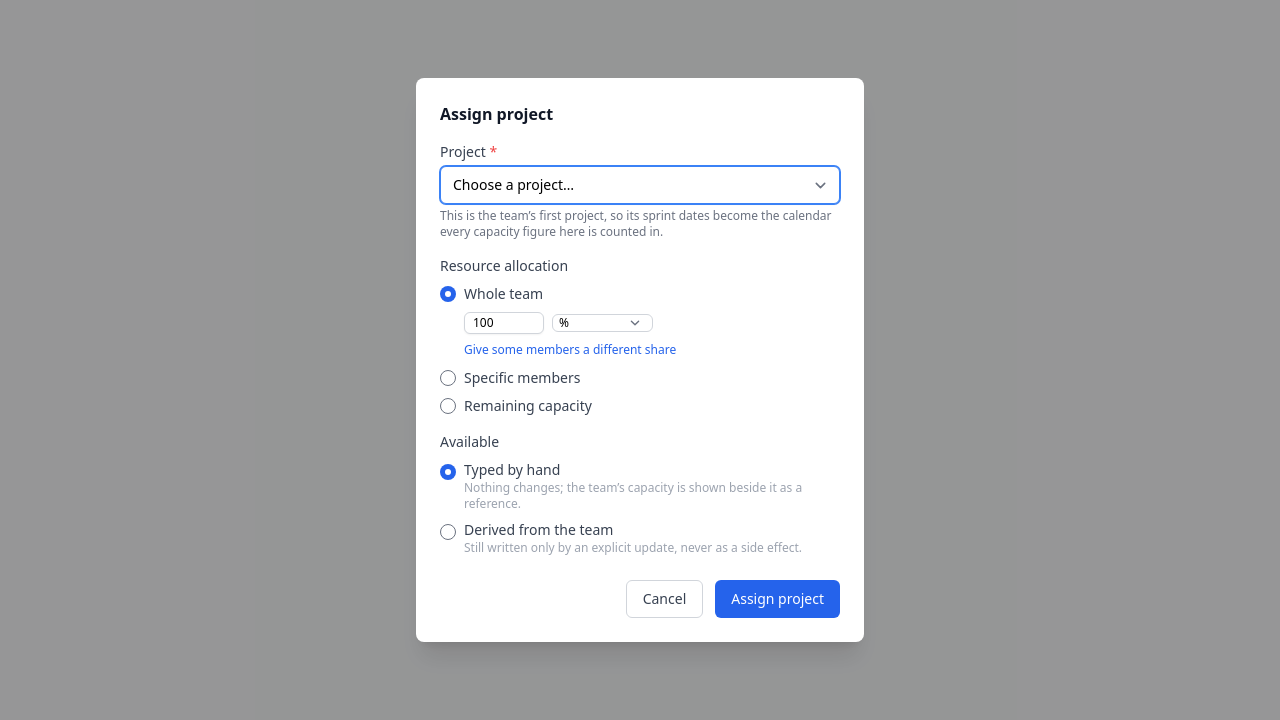
Scenario: AssignProjectModal › asks for the share of a ticked member left empty
Step 1. Select "ISK Portal" in the dropdown labelled "Project *" → (640, 185), box [440,166,840,204]
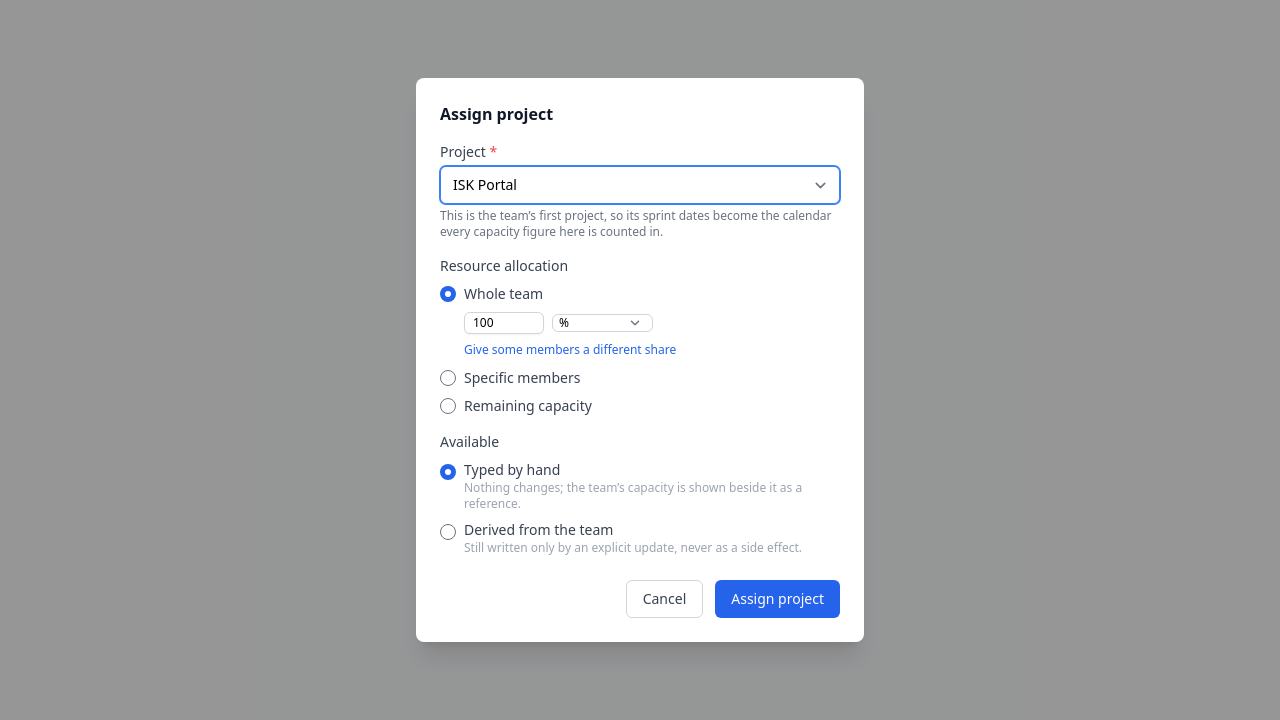
Step 2. Click the radio button labelled "Specific members" → (448, 378), box [440,370,456,386]
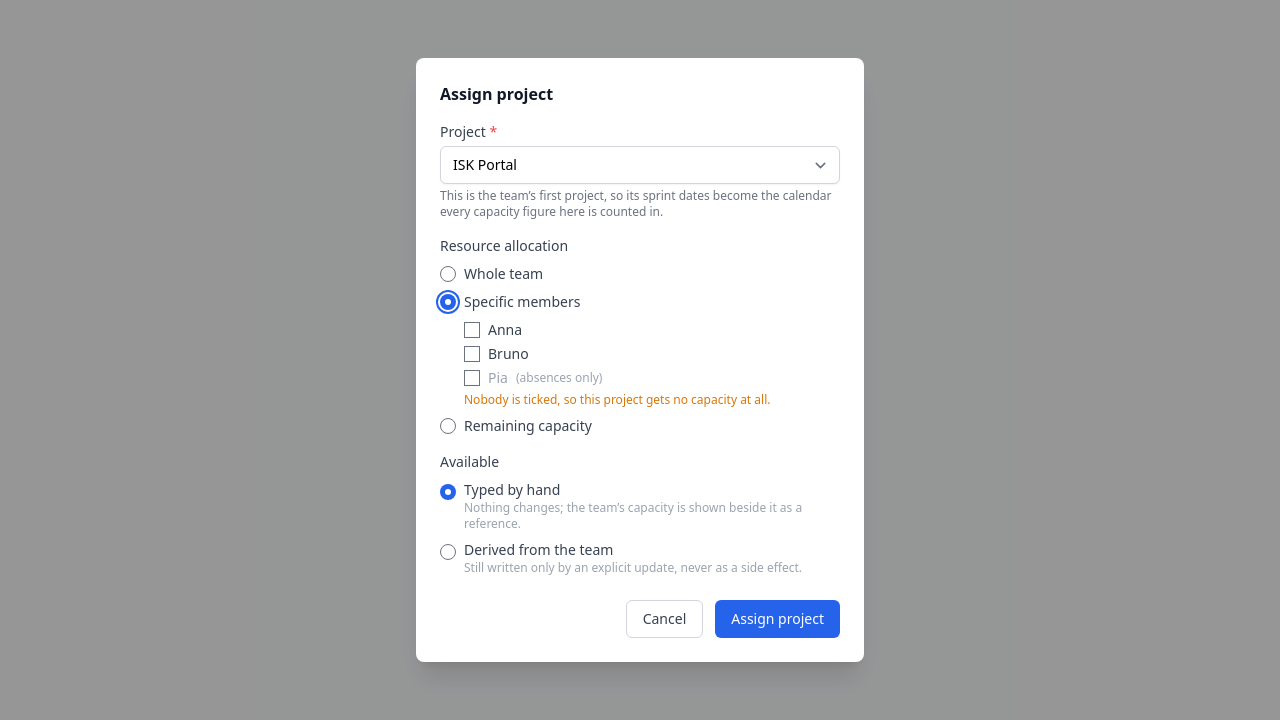
Step 3. Click the checkbox labelled "Anna" → (472, 330), box [464,322,480,338]
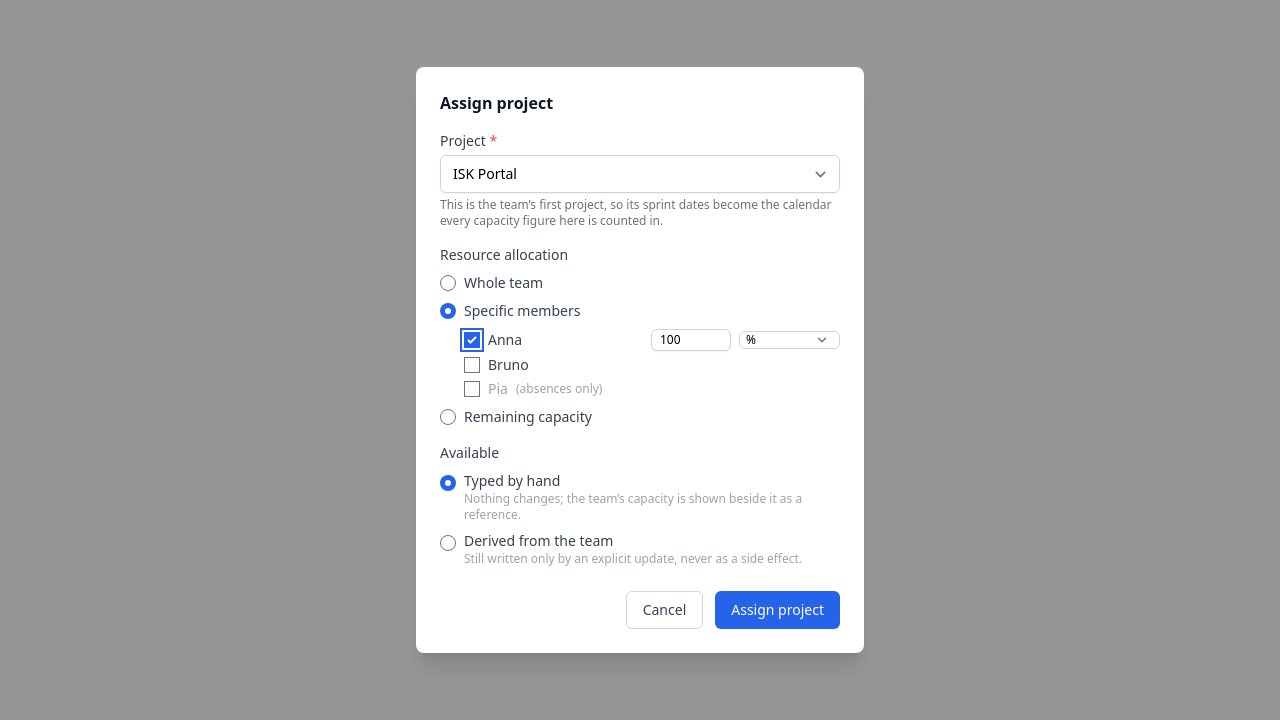
Step 4. Clear the number field named "Anna's share" → (691, 340), box [651,329,731,351]
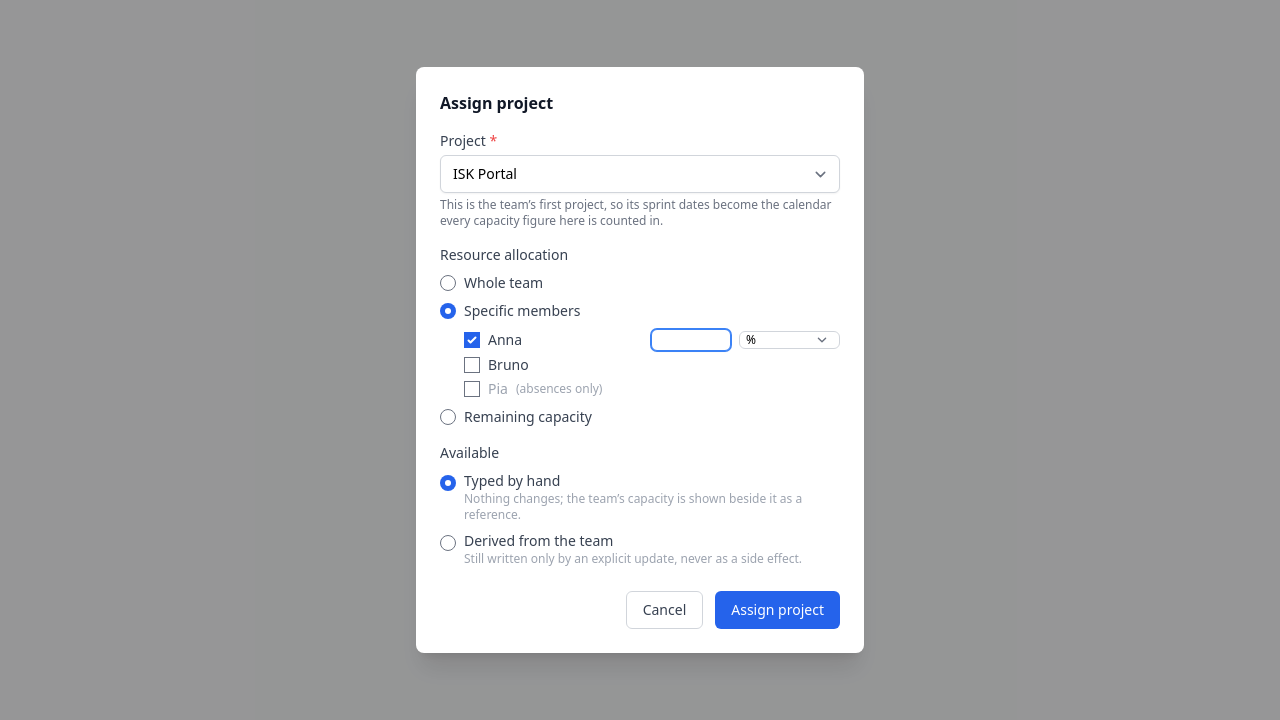
Step 5. Click the button "Assign project" → (778, 610), box [715,591,840,629]
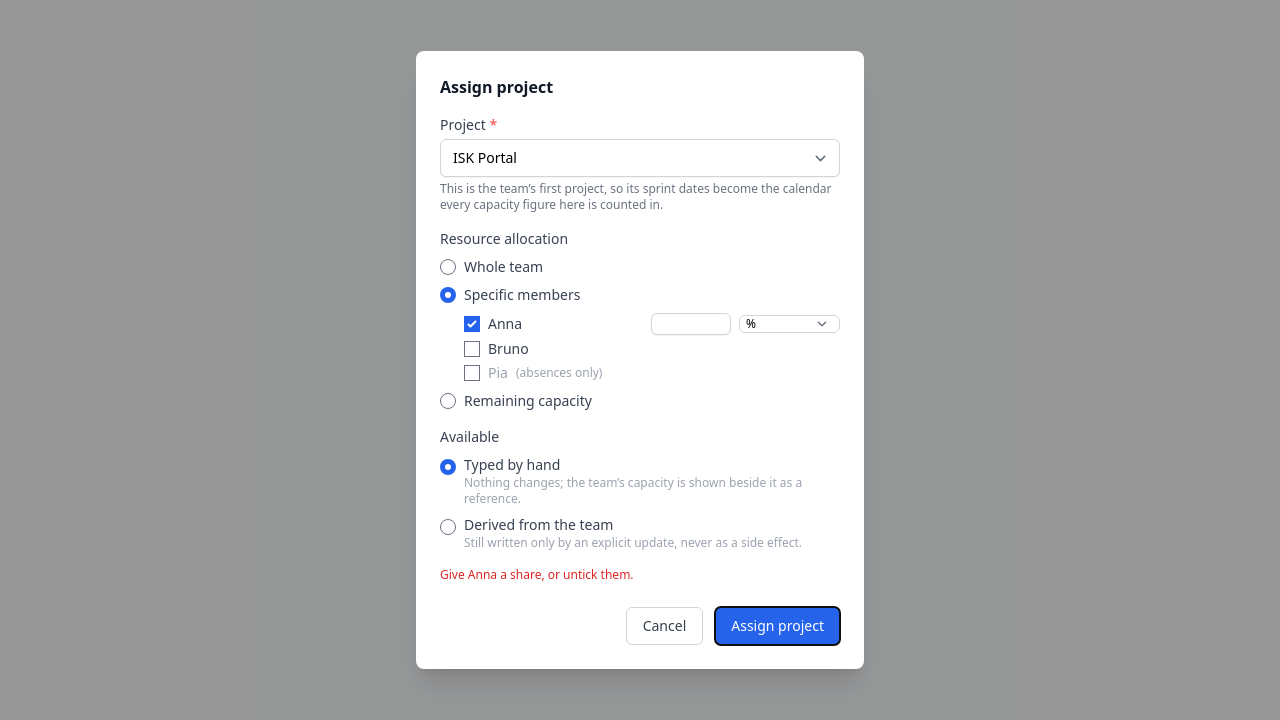
Now the message reads "Give Anna a share, or untick them.", box [440,566,634,583]
